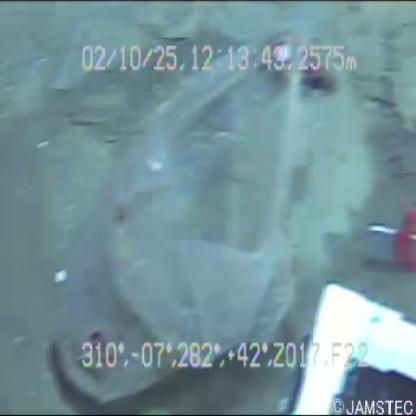Rov: (271, 246, 416, 410)
Rác: (42, 15, 333, 410)
